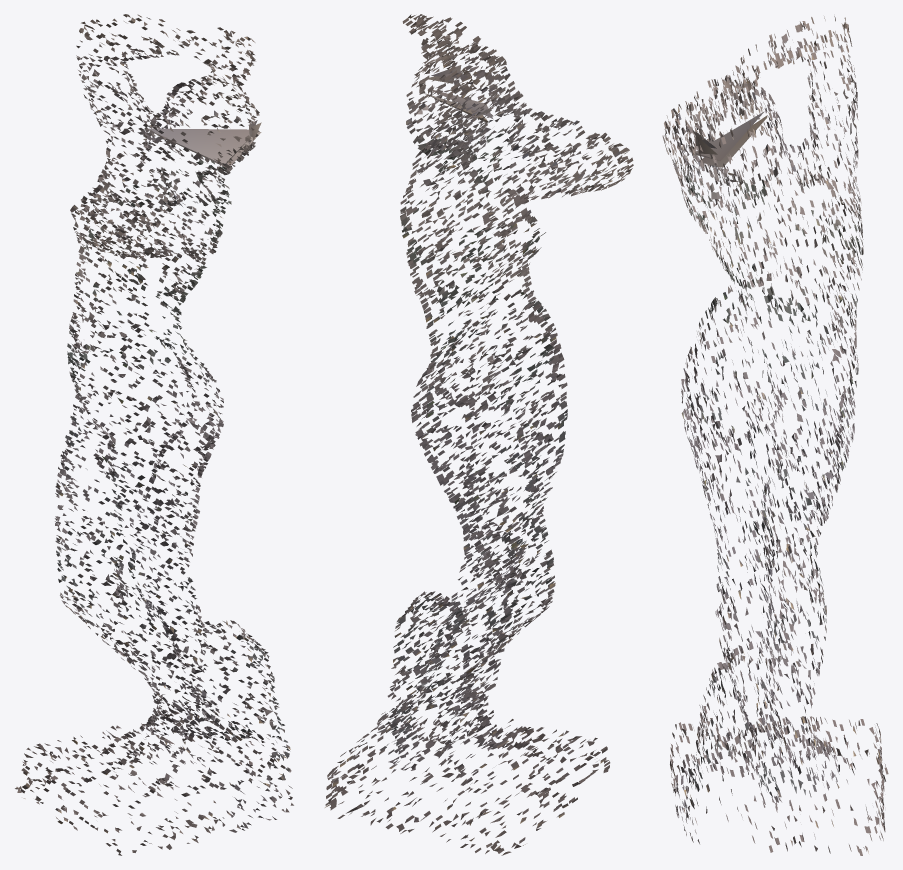
Rendered from PC_Sculpture_01.fbx.
The picture shows the model from 3 angles, left to right: view 1: azimuth 30°, elevation 25°; view 2: azimuth 150°, elevation 25°; view 3: azimuth 270°, elevation 25°; orthographic projection.
Parts seen in each view (by area): view 1: sculpture; view 2: sculpture; view 3: sculpture.
Boxes of the visible parts, bbox=[...] form: sculpture: bbox=[15, 14, 293, 855]; sculpture: bbox=[325, 14, 633, 855]; sculpture: bbox=[662, 16, 888, 855].
Bounding box in the file's own units: 0.9056 × 2.99 × 0.7922.
